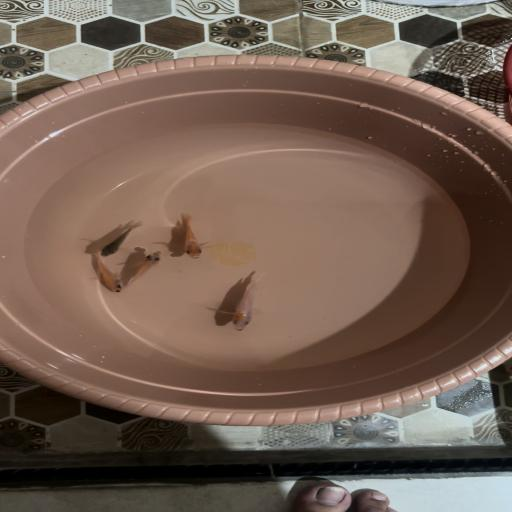nila: (216, 268, 275, 335), (98, 220, 146, 258), (175, 213, 209, 262), (124, 250, 164, 290), (82, 256, 123, 294)
